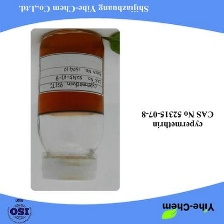insecticide: (34, 27, 109, 184)
